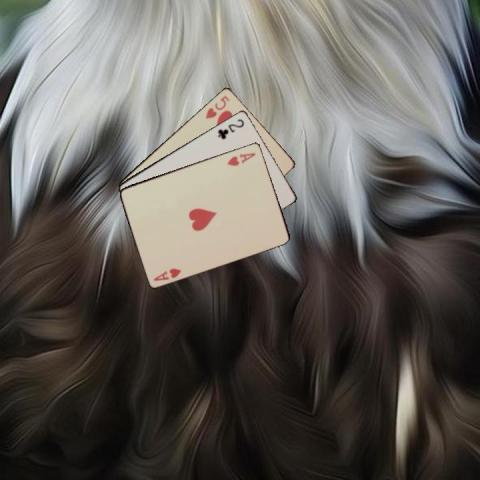2c: (215, 115, 245, 141)
5h: (202, 93, 231, 120)
Ah: (224, 150, 257, 168), (150, 265, 182, 282)
